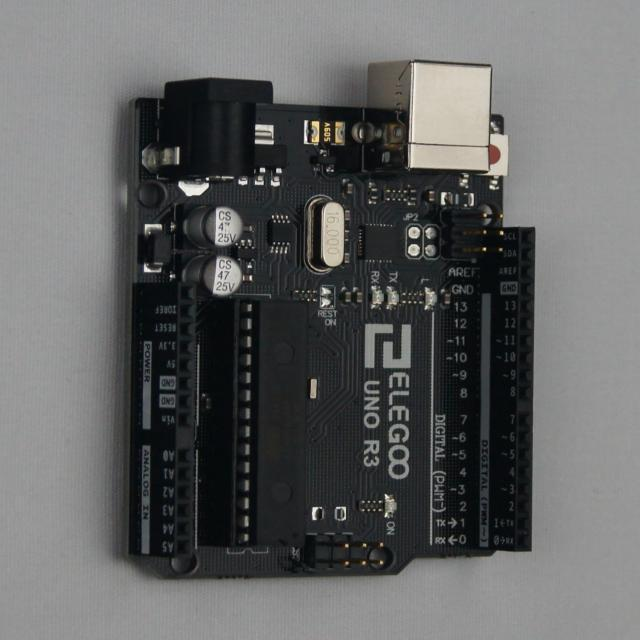Arduino Uno -Black-: (130, 61, 535, 578)
